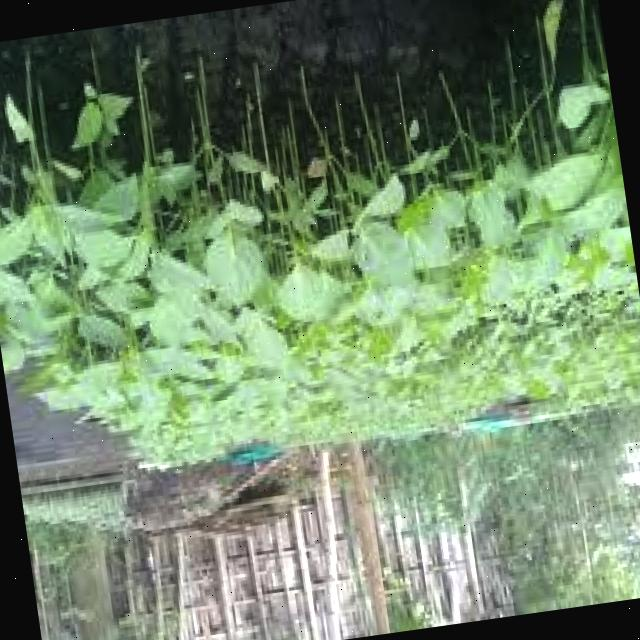healthy: (78, 0, 640, 427)
